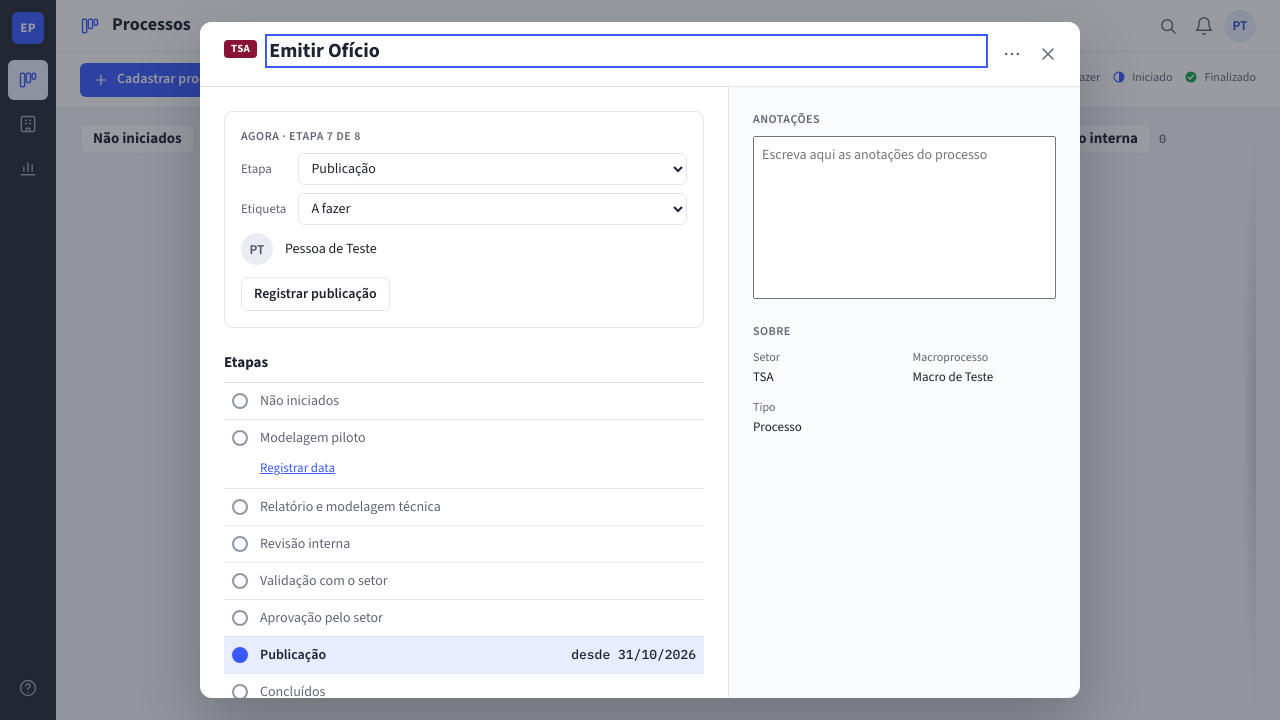
na Publicação, [Registrar publicação] abre a janela com hoje e grava a data e o link sem mover o processo
The image size is (1280, 720).
Step 1. Click the button "Registrar publicação" → (315, 294), box x1=241 y1=277 x2=390 y2=311
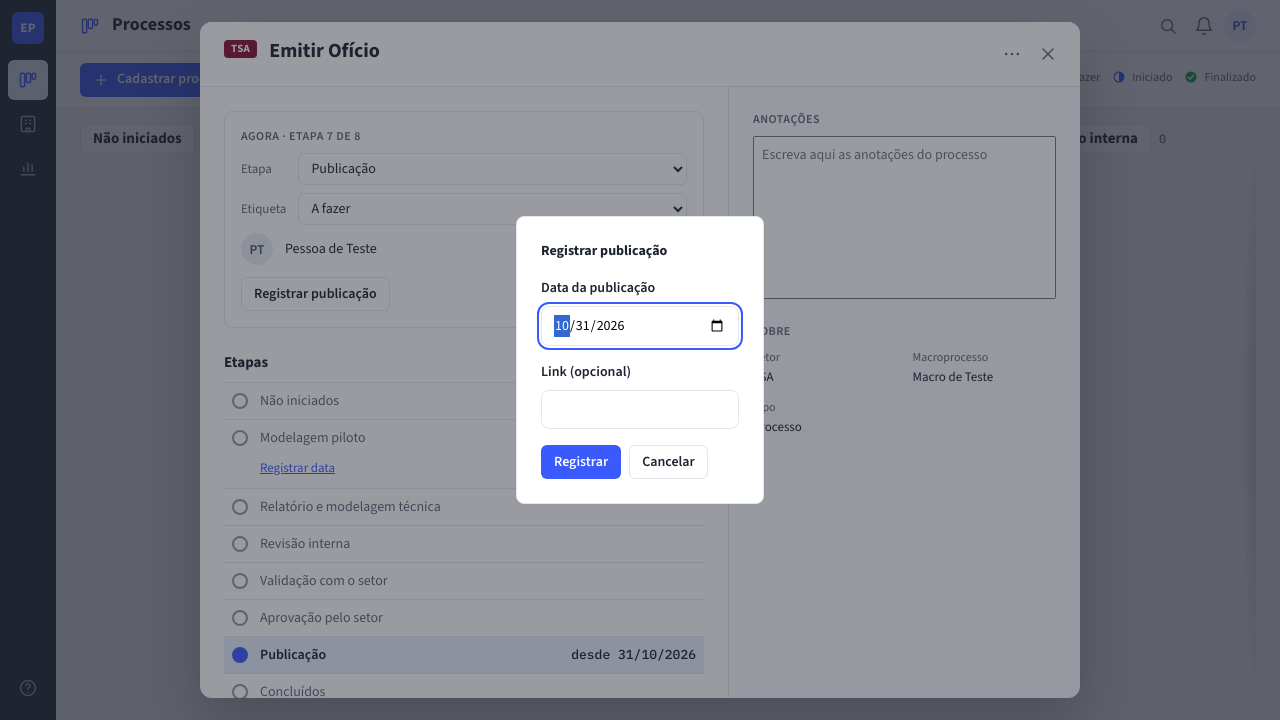
Step 2. Type "2026-10-10" into the date field labelled "Data da publicação" → (640, 326), box x1=541 y1=306 x2=739 y2=346
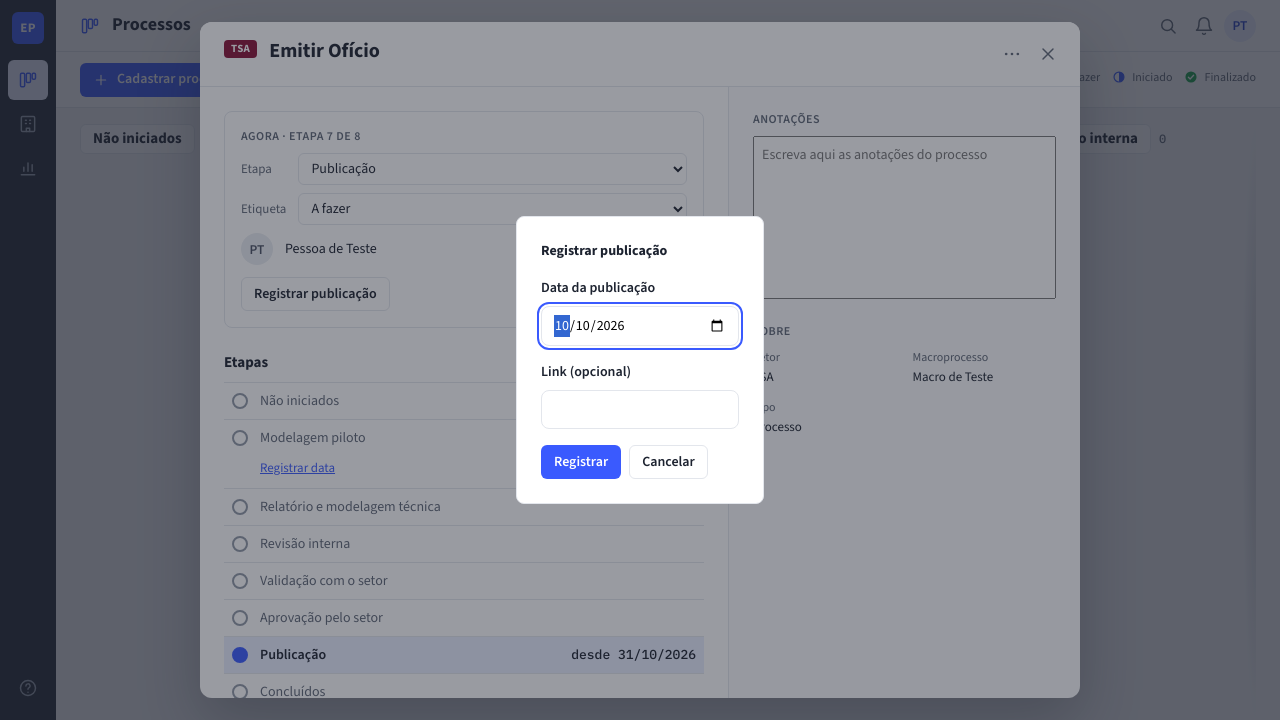
Step 3. Type "https://diario.exemplo/p" into the field labelled "Link (opcional)" → (640, 410), box x1=541 y1=390 x2=739 y2=429
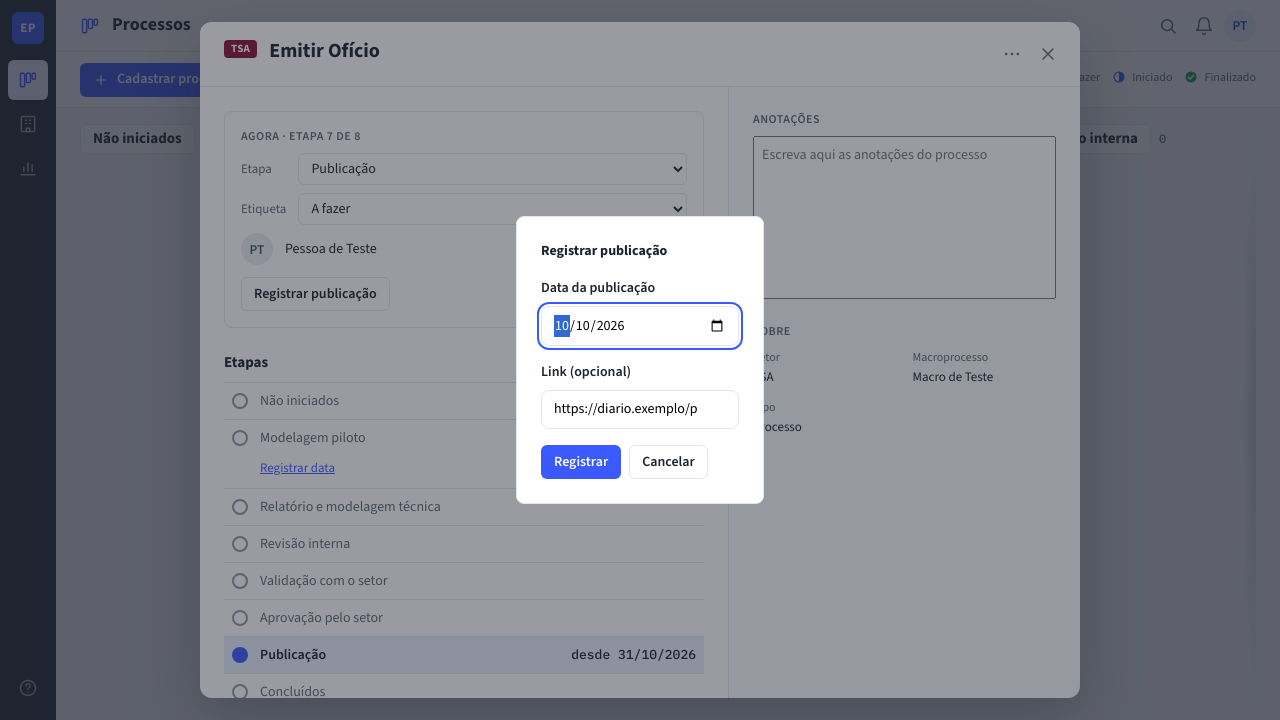
Step 4. Click the button "Registrar" → (581, 462), box x1=541 y1=445 x2=621 y2=479
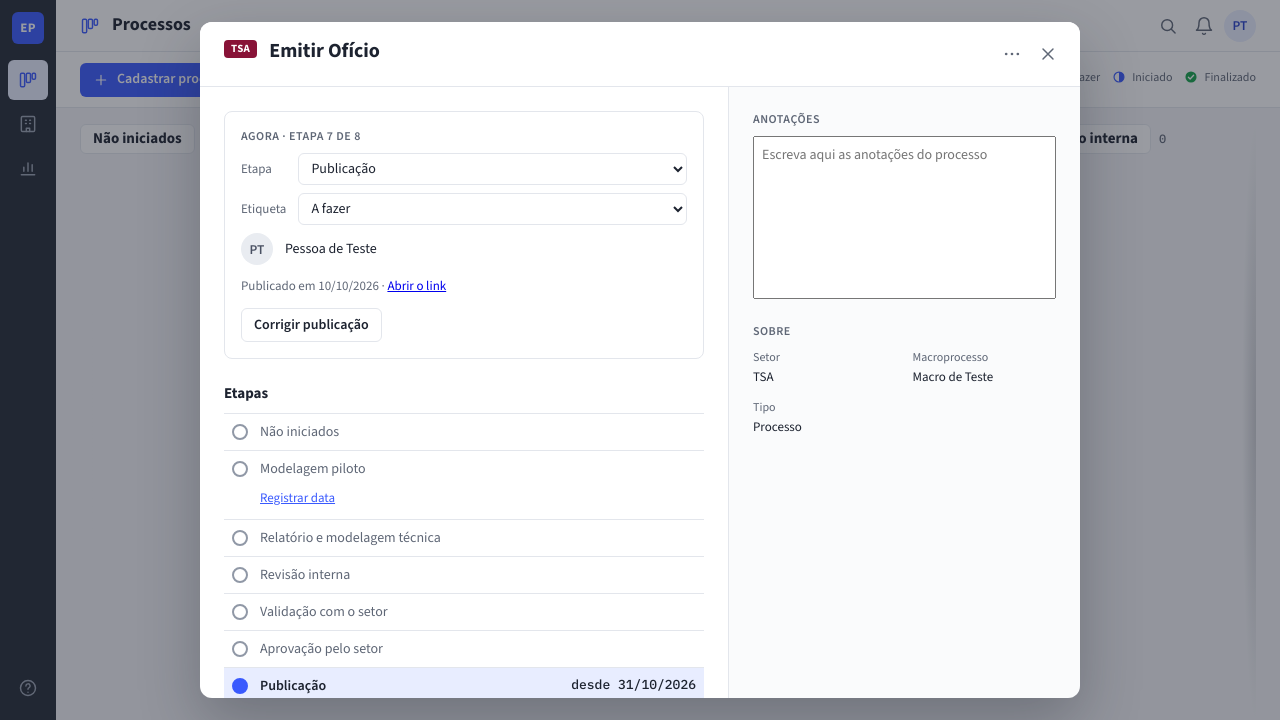
Expected: the text "Agora · etapa 7 de 8" is shown, x1=241 y1=128 x2=361 y2=145
Result: the text "Publicado em 10/10/2026" is shown at x1=241 y1=277 x2=379 y2=295
